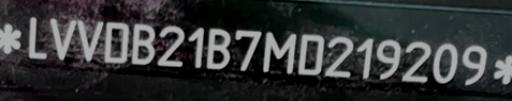letter: (260, 30, 298, 77), (400, 39, 434, 86), (322, 34, 356, 79), (46, 14, 78, 61), (233, 27, 263, 76), (294, 33, 326, 78), (100, 19, 130, 66), (155, 25, 185, 70), (128, 21, 156, 68), (204, 25, 232, 72), (75, 19, 103, 64), (376, 36, 402, 81), (25, 14, 49, 61), (432, 41, 458, 84), (462, 44, 488, 87), (186, 25, 206, 74), (355, 35, 375, 80)
